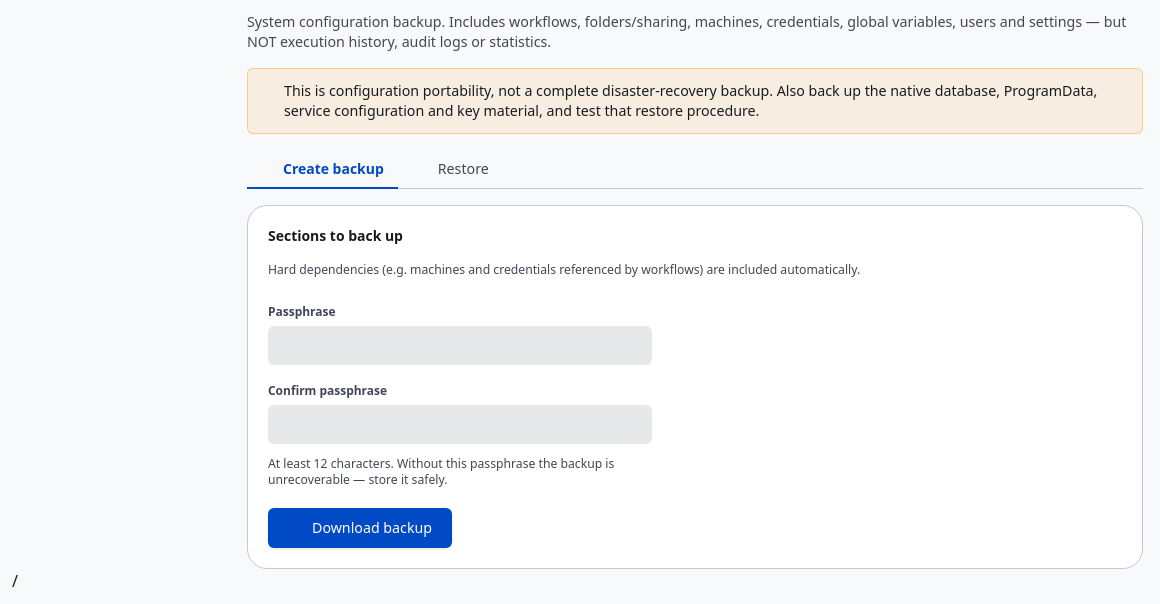
Test: BackupPage › writes the selected primary tab to the URL
Click the button "Restore": [452, 170] box [402,150,503,189]
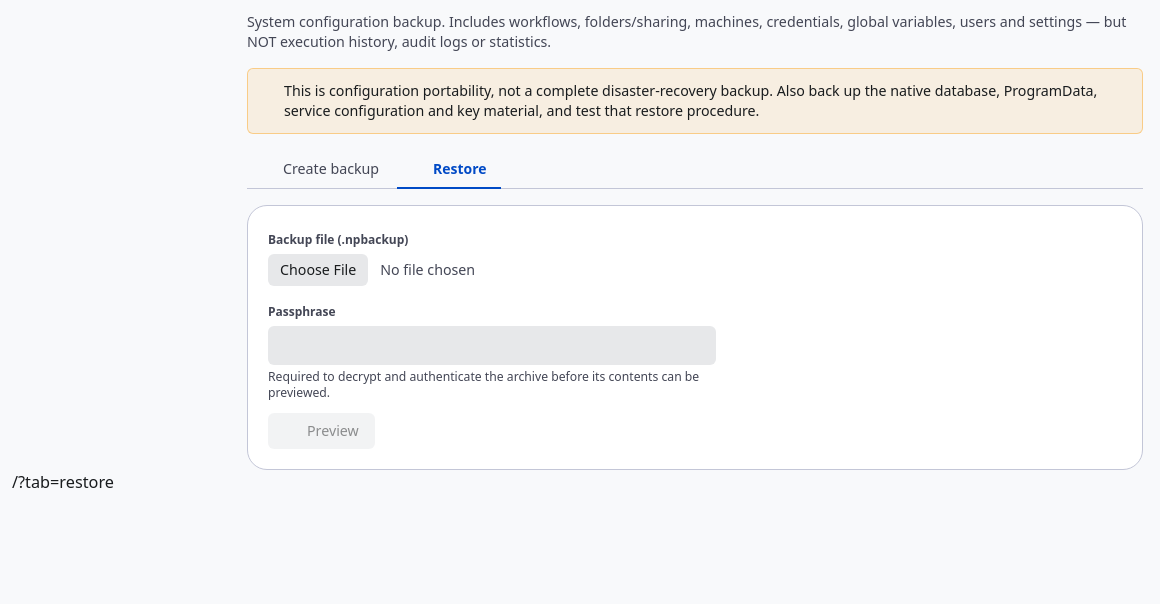
expect the text with test id "location" reads "/?tab=restore": met, box [18,471,114,493]
